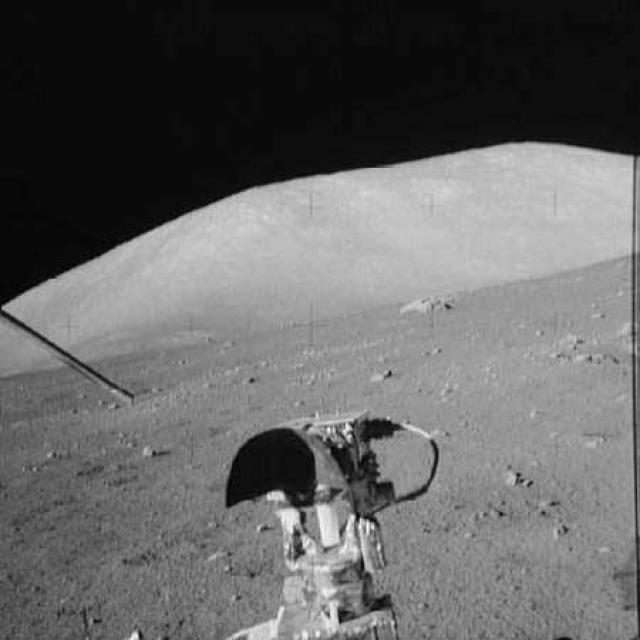artifact: (218, 406, 447, 638), (0, 306, 139, 411), (398, 288, 456, 319)
